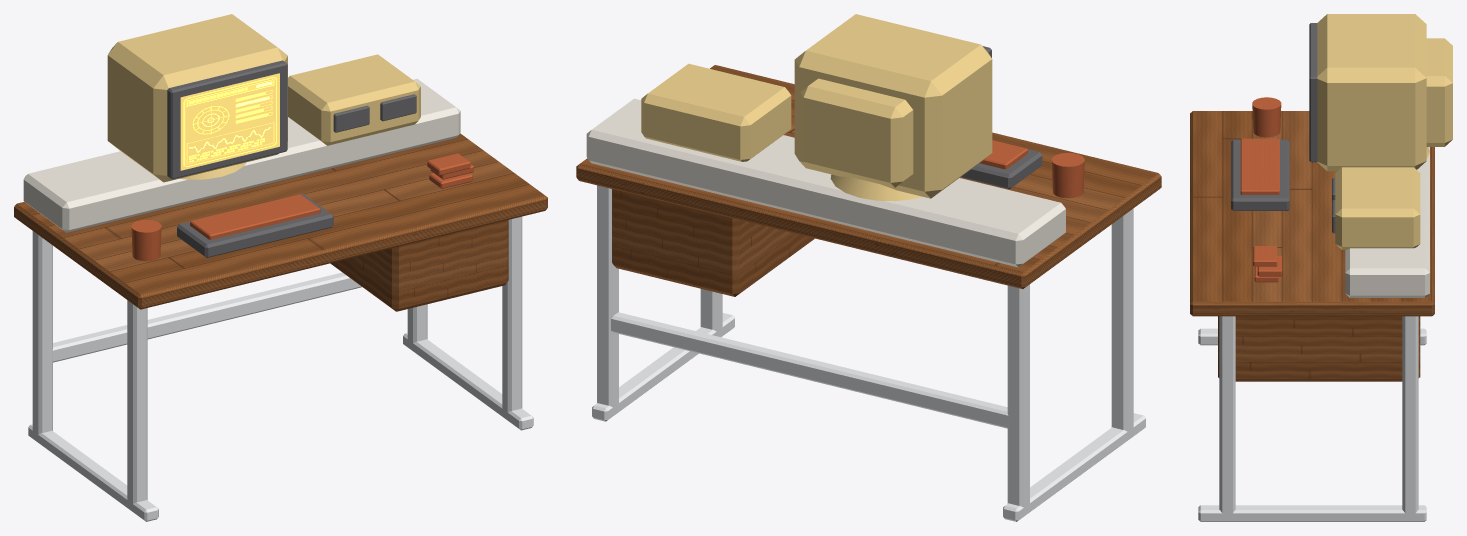
The model's file is retro_desk_crt.glb.
3 views of the same model, side by side, from view 1: azimuth 30°, elevation 25°; view 2: azimuth 150°, elevation 25°; view 3: azimuth 270°, elevation 25° (orthographic). The views are drawn at different scales.
Parts seen in each view (by area): view 1: Desk_WoodTopAndPedestal, Desk_CantileverLegs, CRT_OchreCasingAndTapeDeck, Desk_RearConsoleRiser, CRT_BezelAndKeyboardBase, CRT_PhosphorScreen, Desk_KeycapsTapesAndMug; view 2: CRT_OchreCasingAndTapeDeck, Desk_WoodTopAndPedestal, Desk_CantileverLegs, Desk_RearConsoleRiser, Desk_KeycapsTapesAndMug, CRT_BezelAndKeyboardBase; view 3: Desk_WoodTopAndPedestal, CRT_OchreCasingAndTapeDeck, Desk_CantileverLegs, Desk_RearConsoleRiser, Desk_KeycapsTapesAndMug, CRT_BezelAndKeyboardBase.
Boxes of the visible parts, x1,y1,x2,y2 form: Desk_WoodTopAndPedestal: (14,133,547,311); Desk_CantileverLegs: (28,216,533,521); CRT_OchreCasingAndTapeDeck: (107,14,420,182); Desk_RearConsoleRiser: (23,78,460,232); CRT_BezelAndKeyboardBase: (167,60,416,257); CRT_PhosphorScreen: (180,73,279,170); Desk_KeycapsTapesAndMug: (131,153,473,261); CRT_OchreCasingAndTapeDeck: (641,14,992,201); Desk_WoodTopAndPedestal: (576,65,1161,296); Desk_CantileverLegs: (592,185,1145,521); Desk_RearConsoleRiser: (586,98,1065,267); Desk_KeycapsTapesAndMug: (980,140,1084,198); CRT_BezelAndKeyboardBase: (960,46,1042,188); Desk_WoodTopAndPedestal: (1190,111,1434,381); CRT_OchreCasingAndTapeDeck: (1317,14,1452,249); Desk_CantileverLegs: (1198,316,1426,521); Desk_RearConsoleRiser: (1345,147,1429,297); Desk_KeycapsTapesAndMug: (1240,97,1282,282); CRT_BezelAndKeyboardBase: (1231,23,1335,233).
Bounding box in the file's own units: 1.4 × 1.23 × 0.805.
Materials: 7 (3 with a texture image).
